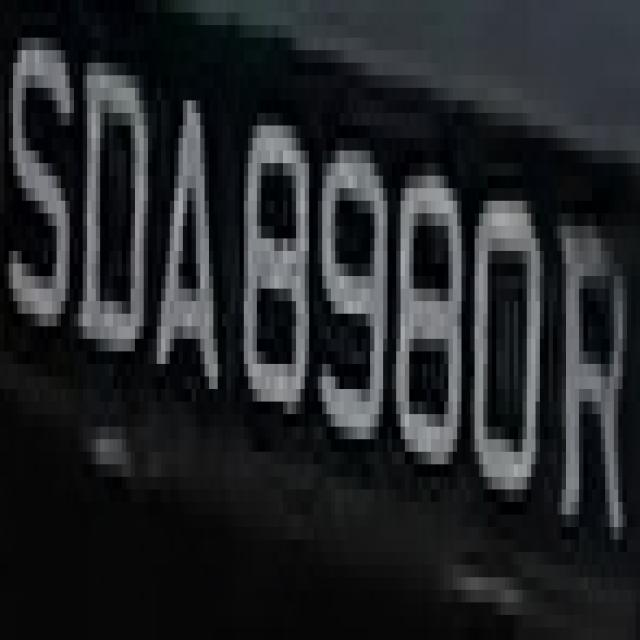0: (466, 126, 553, 527)
8: (231, 62, 313, 426), (387, 113, 466, 489)
9: (314, 75, 383, 502)
A: (152, 75, 226, 452)
D: (74, 38, 148, 351)
R: (557, 188, 636, 590)
S: (9, 0, 74, 402)
